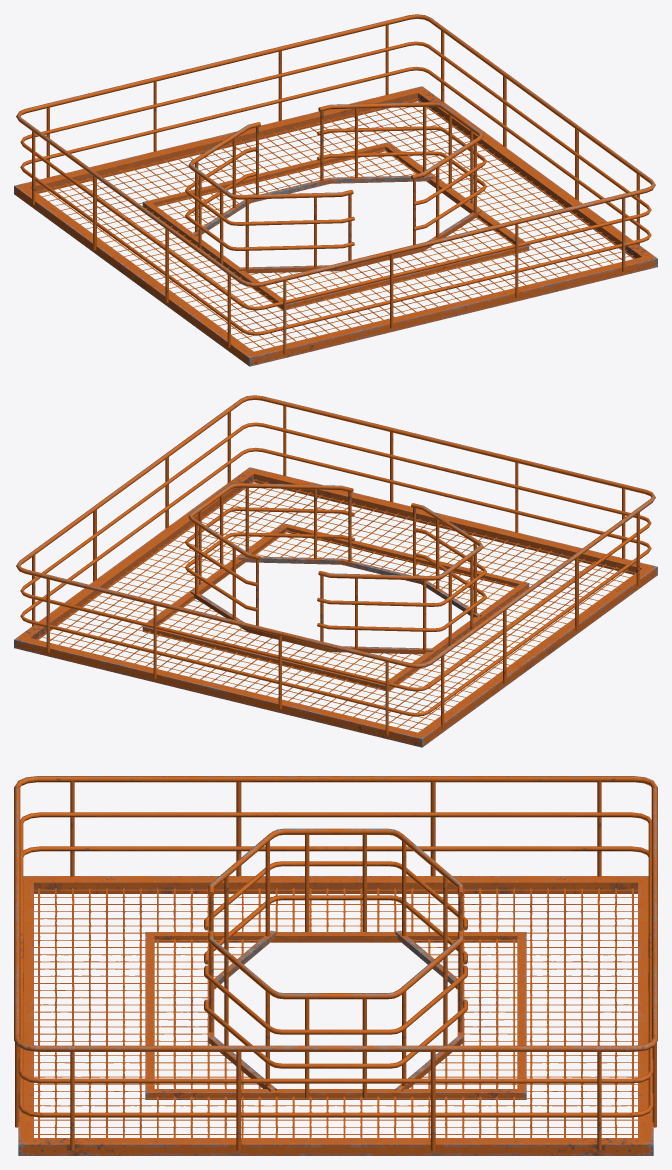
The model's file is Platform_04.fbx.
The picture shows the model from 3 angles, top to bottom: view 1: azimuth 30°, elevation 25°; view 2: azimuth 150°, elevation 25°; view 3: azimuth 270°, elevation 25°; orthographic projection. The views are drawn at different scales.
Visible parts, largest first — view 1: Platform_04_LOD0; view 2: Platform_04_LOD0; view 3: Platform_04_LOD0.
Boxes of the visible parts, bbox=[...] form: Platform_04_LOD0: bbox=[14, 14, 657, 366]; Platform_04_LOD0: bbox=[14, 395, 657, 747]; Platform_04_LOD0: bbox=[14, 776, 657, 1155].
Size of what is drawn, in the model's own units: 5.15 by 0.9717 by 5.15.
